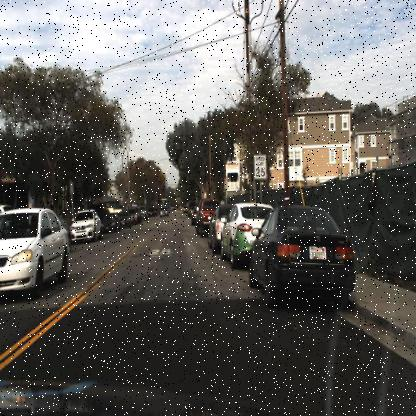car: (247, 201, 356, 307), (0, 203, 71, 301), (221, 200, 272, 270), (219, 200, 266, 270), (68, 203, 100, 245), (206, 198, 228, 254), (69, 207, 101, 244), (206, 201, 227, 255), (194, 198, 213, 238), (99, 207, 120, 236), (56, 215, 72, 253), (98, 212, 119, 235), (115, 209, 132, 228), (136, 205, 148, 223), (129, 206, 140, 224), (158, 206, 169, 218)
